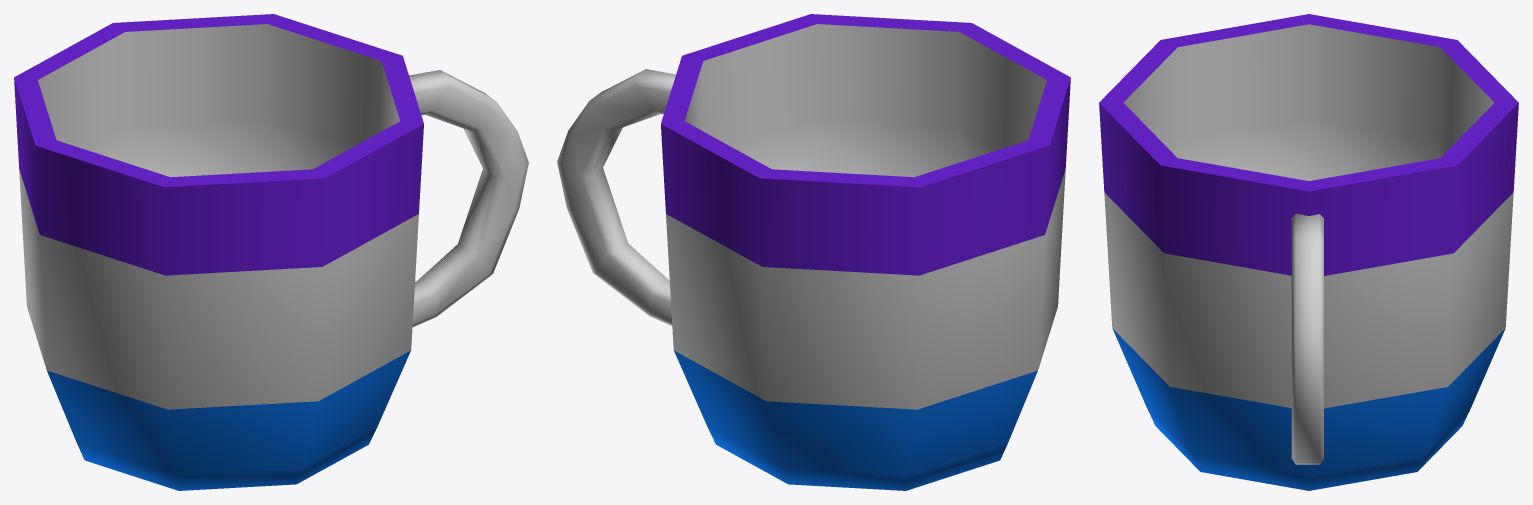
The model's file is Coffee_Cup_10.FBX.
3 renders of one model, left to right at view 1: azimuth 30°, elevation 25°; view 2: azimuth 150°, elevation 25°; view 3: azimuth 270°, elevation 25°, orthographic.
Visible parts, largest first — view 1: Coffee Cup; view 2: Coffee Cup; view 3: Coffee Cup.
Boxes of the visible parts, x1,y1,x2,y2 form: Coffee Cup: (14, 14, 528, 490); Coffee Cup: (557, 14, 1070, 490); Coffee Cup: (1099, 14, 1518, 490).
Bounding box in the file's own units: 44.01 × 28.24 × 33.22.
